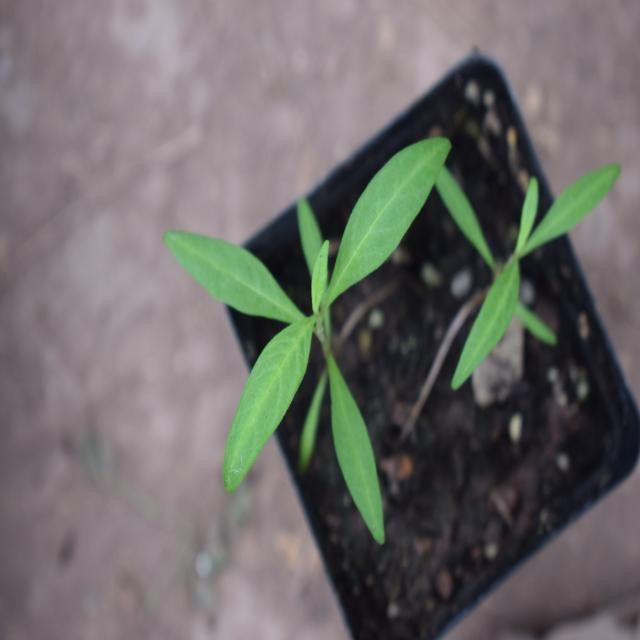white_smart_weed: (180, 112, 452, 549)
